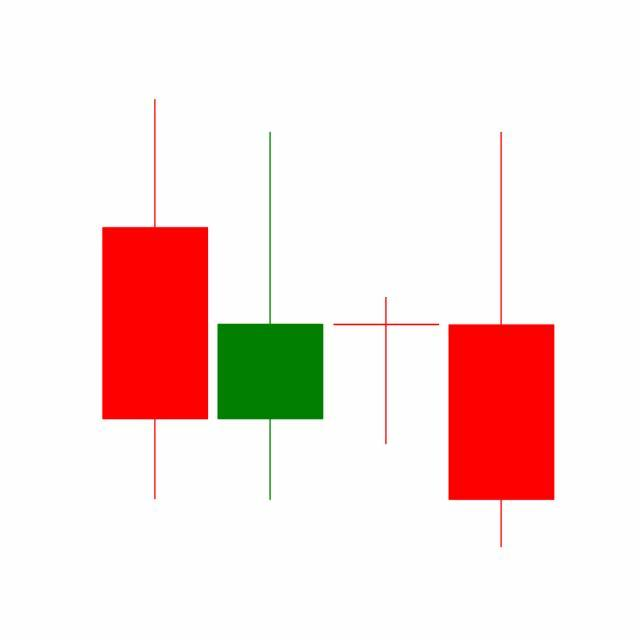Dragonfly Doji: (329, 295, 445, 448)
